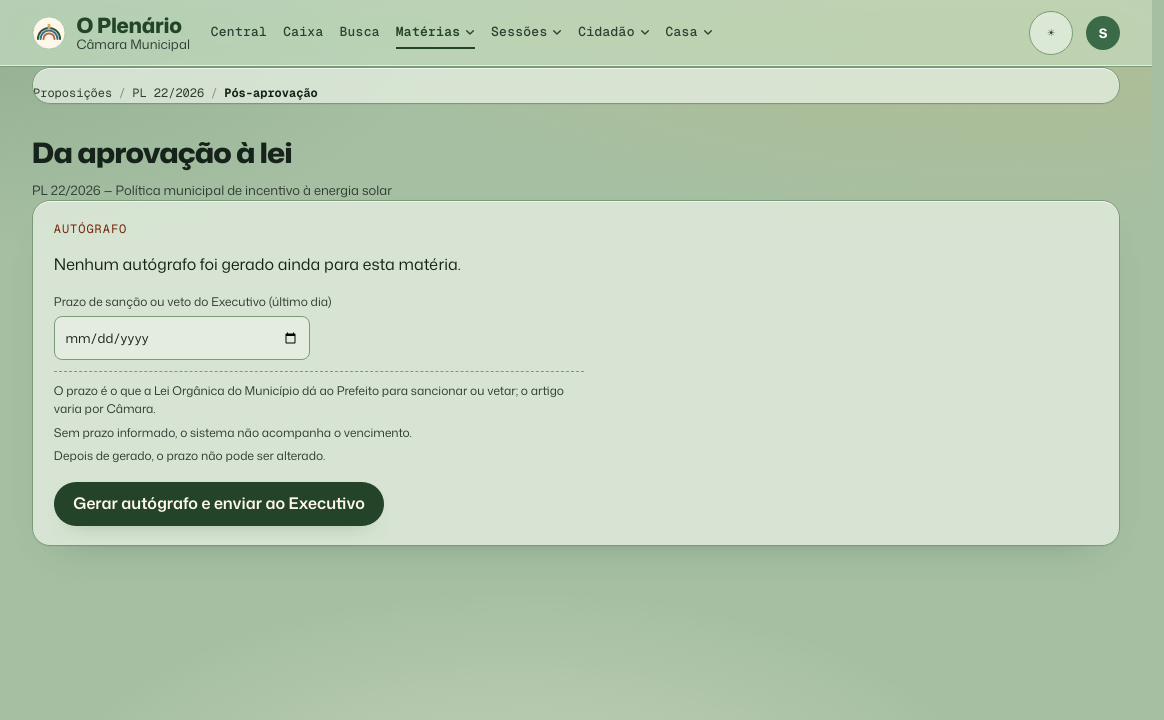
Scenario: ConteudoPosAprovacao › o 400 do backend aparece como frase, não como 'requisicao invalida'
The image size is (1164, 720).
Click the button "Gerar autógrafo e enviar ao Executivo" at (219, 504), box [54,482,384,526]
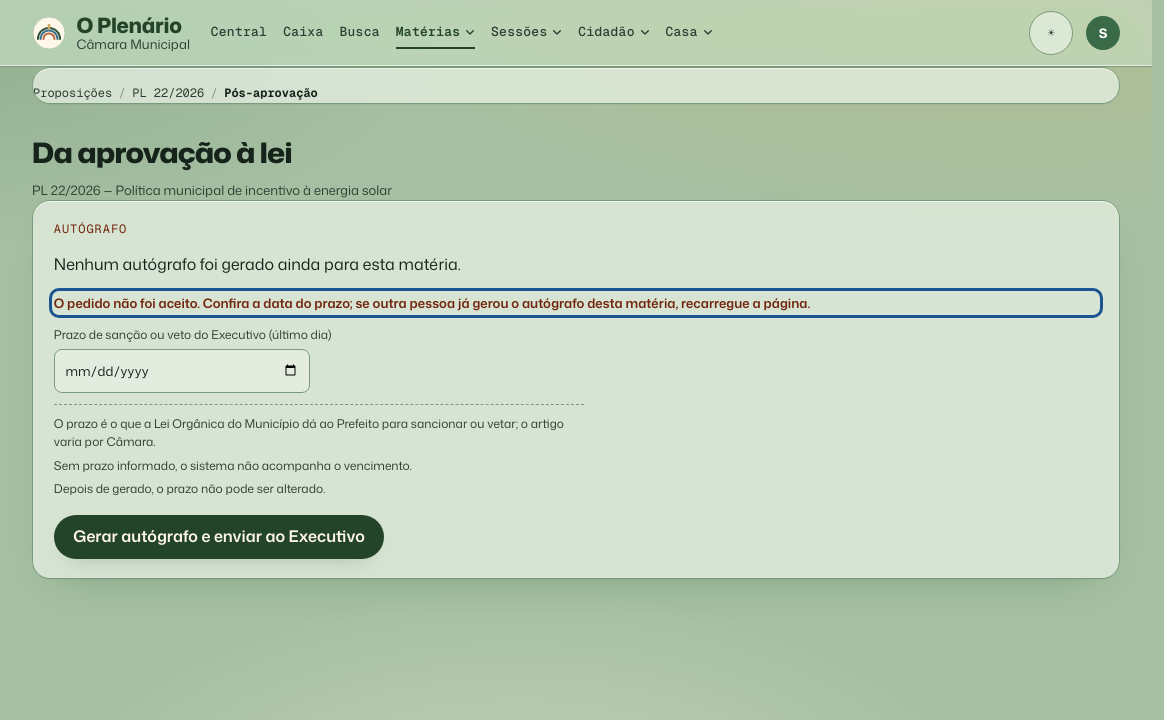
Check: the message shows "O pedido não foi aceito", box [54,294,810,312]
